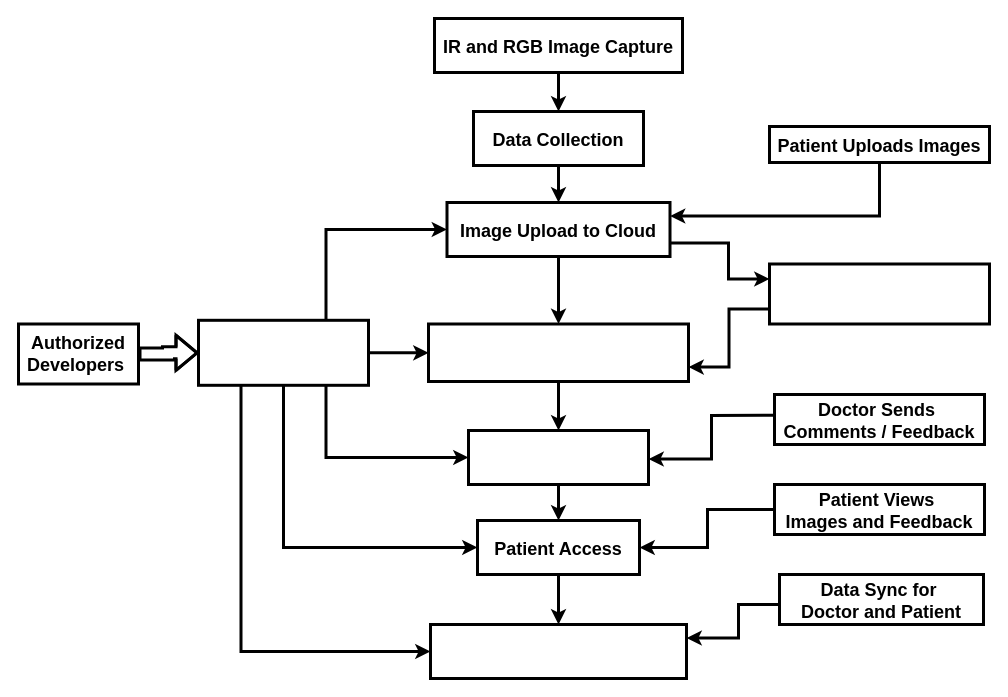
Some shapes in this 1008 by 697 pixel diagram are drawn without their labels. Here are the shapes that lost their labels. From the top down, the centre of each, then its label:
the point at 879,293: Doctor Reviews and Analyzes Images
the point at 283,352: Cloud System of Solesense
the point at 558,352: Data Processing and Analysis
the point at 558,457: Doctor Feedback
the point at 558,651: Cloud Data Synchronization
